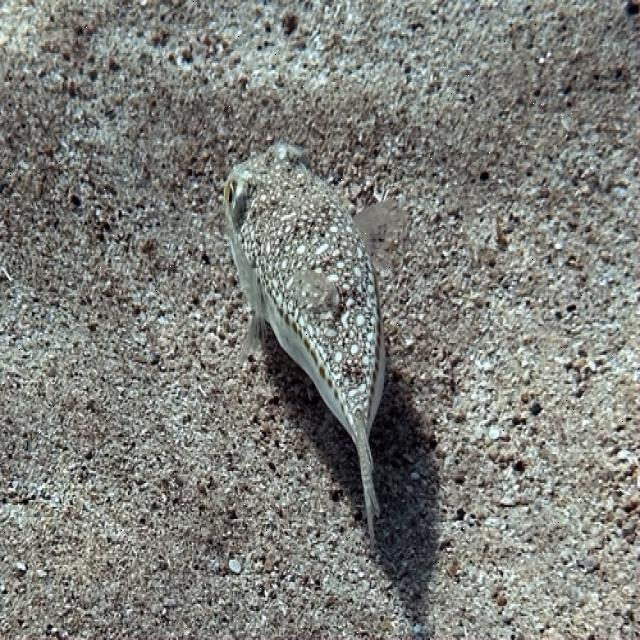Balik: (224, 144, 385, 541)
